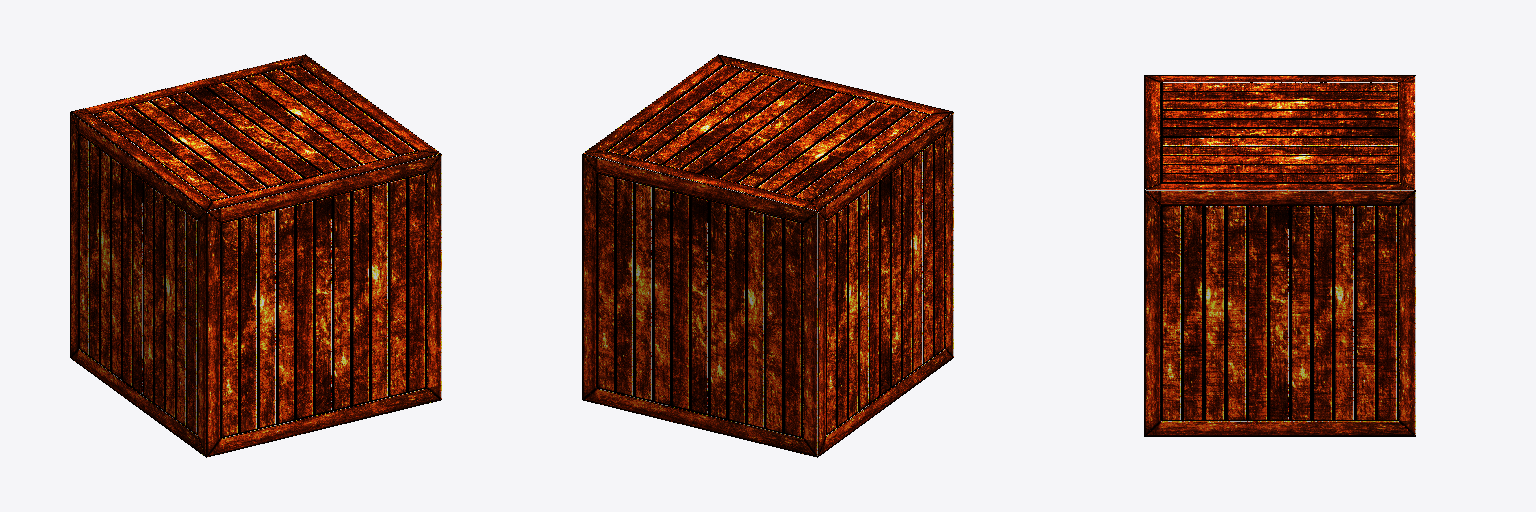
3 views of the same model, side by side, from view 1: azimuth 30°, elevation 25°; view 2: azimuth 150°, elevation 25°; view 3: azimuth 270°, elevation 25° (orthographic).
Visible parts, largest first — view 1: wood-box-s4; view 2: wood-box-s4; view 3: wood-box-s4.
Part boxes in pixels (left/top/right/bottom): wood-box-s4: left=70, top=54, right=441, bottom=457; wood-box-s4: left=582, top=54, right=953, bottom=457; wood-box-s4: left=1144, top=75, right=1415, bottom=436.
Bounding box in the file's own units: 2 × 2 × 2.
1 materials, 1 textured.